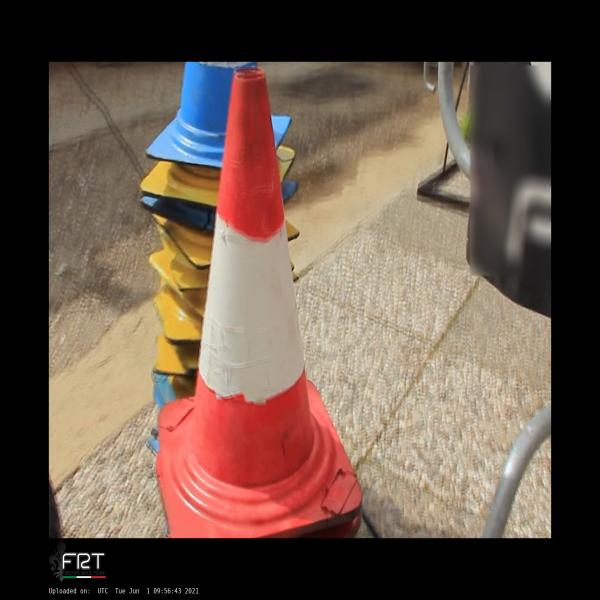blue_cone: (145, 64, 292, 168)
orange_cone: (158, 70, 362, 538)
